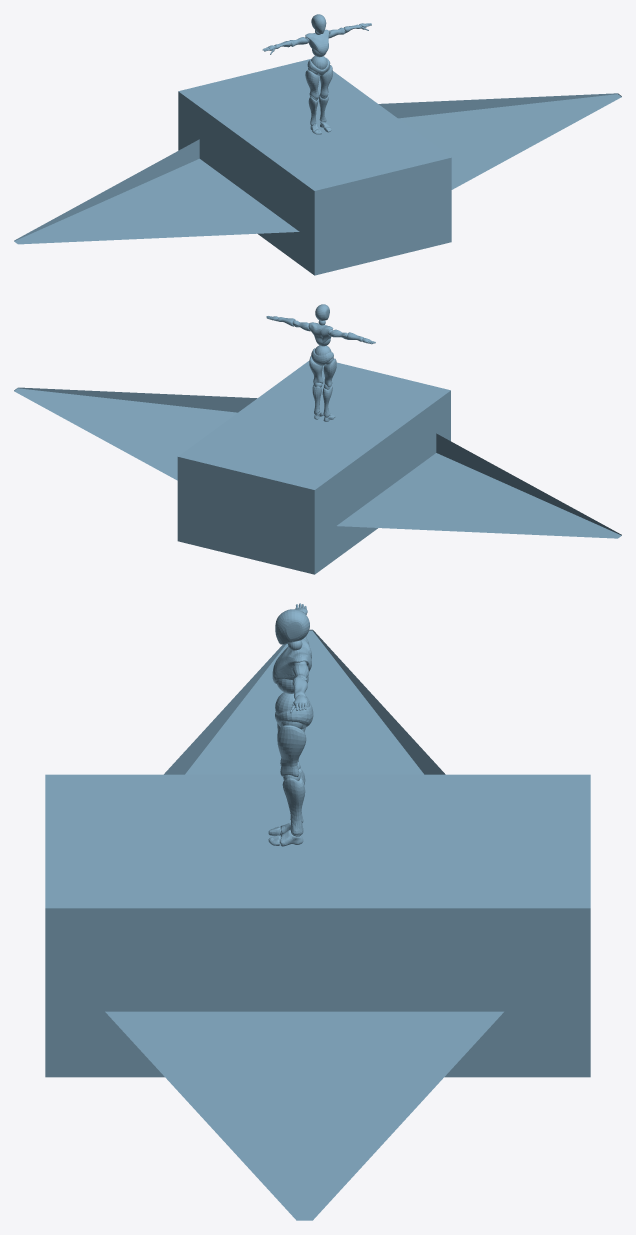
File: aerial-standing.glb
3 renders of one model, top to bottom at view 1: azimuth 30°, elevation 25°; view 2: azimuth 150°, elevation 25°; view 3: azimuth 270°, elevation 25°, orthographic. The views are drawn at different scales.
Visible parts, largest first — view 1: xier120.aerial-standing.mesh.003, xier120.aerial-standing.mesh.002, xier120.aerial-standing.mesh.004, xier120.aerial-standing.mesh.000, xier120.aerial-standing.mesh.001; view 2: xier120.aerial-standing.mesh.003, xier120.aerial-standing.mesh.002, xier120.aerial-standing.mesh.004, xier120.aerial-standing.mesh.000, xier120.aerial-standing.mesh.001; view 3: xier120.aerial-standing.mesh.003, xier120.aerial-standing.mesh.004, xier120.aerial-standing.mesh.002, xier120.aerial-standing.mesh.000, xier120.aerial-standing.mesh.001.
Boxes of the visible parts, x1,y1,x2,y2 form: xier120.aerial-standing.mesh.003: (178,58,451,275); xier120.aerial-standing.mesh.002: (14,139,299,244); xier120.aerial-standing.mesh.004: (378,93,621,189); xier120.aerial-standing.mesh.000: (262,14,371,134); xier120.aerial-standing.mesh.001: (264,23,370,129); xier120.aerial-standing.mesh.003: (177,361,450,574); xier120.aerial-standing.mesh.002: (337,433,621,538); xier120.aerial-standing.mesh.004: (14,387,257,480); xier120.aerial-standing.mesh.000: (266,304,375,421); xier120.aerial-standing.mesh.001: (267,316,373,417); xier120.aerial-standing.mesh.003: (45,774,590,1077); xier120.aerial-standing.mesh.004: (105,1011,503,1220); xier120.aerial-standing.mesh.002: (164,629,445,774); xier120.aerial-standing.mesh.000: (268,603,313,846); xier120.aerial-standing.mesh.001: (275,604,310,843).
Size of the model in its own units: 10 by 3.15 by 3.91.
